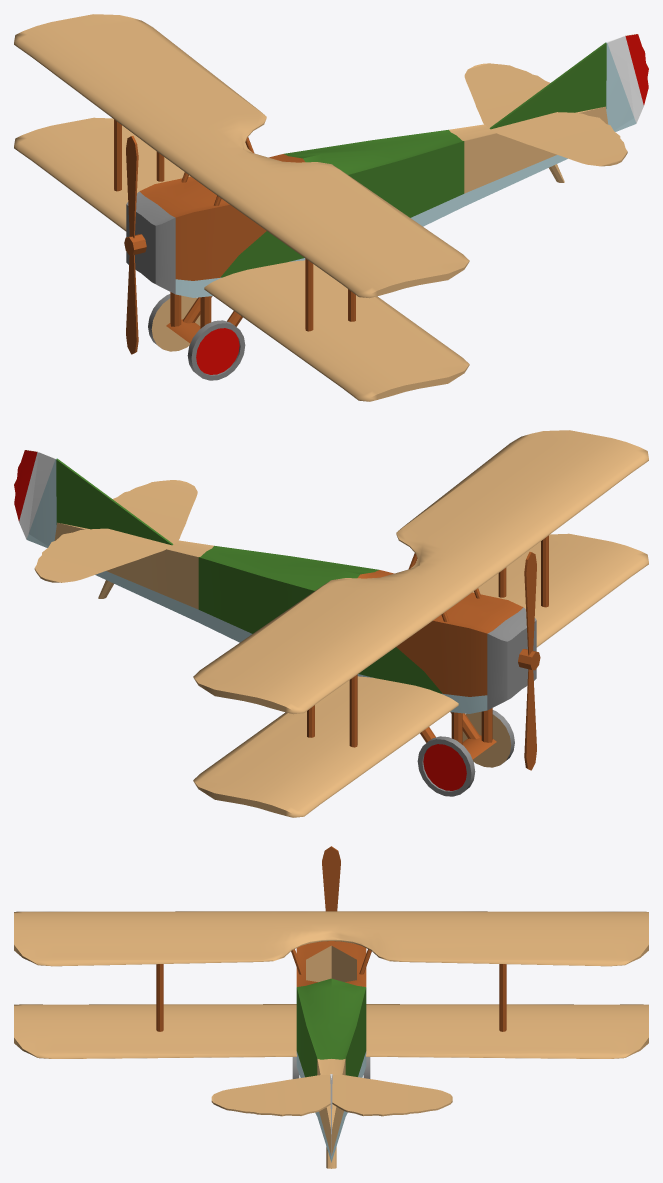
The model's file is Spad.fbx.
3 renders of one model, top to bottom at view 1: azimuth 30°, elevation 25°; view 2: azimuth 150°, elevation 25°; view 3: azimuth 270°, elevation 25°, orthographic. The views are drawn at different scales.
Visible parts, largest first — view 1: Spad, Wings top, Wings bot, Cube, Propellor; view 2: Spad, Wings top, Wings bot, Cube, Propellor; view 3: Wings top, Wings bot, Spad, Cube, Propellor.
Boxes of the visible parts, x1,y1,x2,y2 form: Spad: (114, 34, 648, 380); Wings top: (14, 14, 469, 298); Wings bot: (14, 117, 469, 401); Cube: (464, 63, 627, 166); Propellor: (124, 136, 146, 354); Spad: (14, 450, 548, 796); Wings top: (193, 430, 648, 714); Wings bot: (193, 533, 648, 817); Cube: (34, 480, 197, 582); Propellor: (518, 552, 540, 770); Wings top: (14, 911, 648, 966); Wings bot: (14, 1004, 648, 1058); Spad: (156, 941, 506, 1168); Cube: (211, 1075, 452, 1116); Propellor: (322, 846, 340, 911).
Size of the model in its own units: 628 by 281 by 741.
